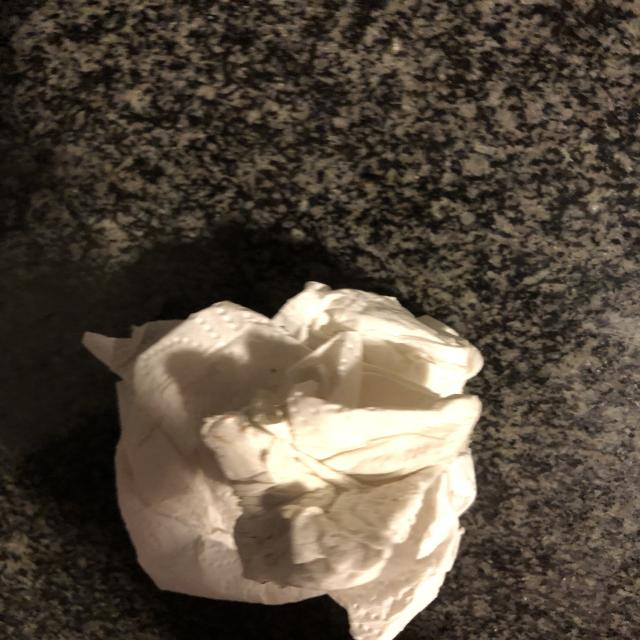kitchen paper: (80, 278, 487, 640)
